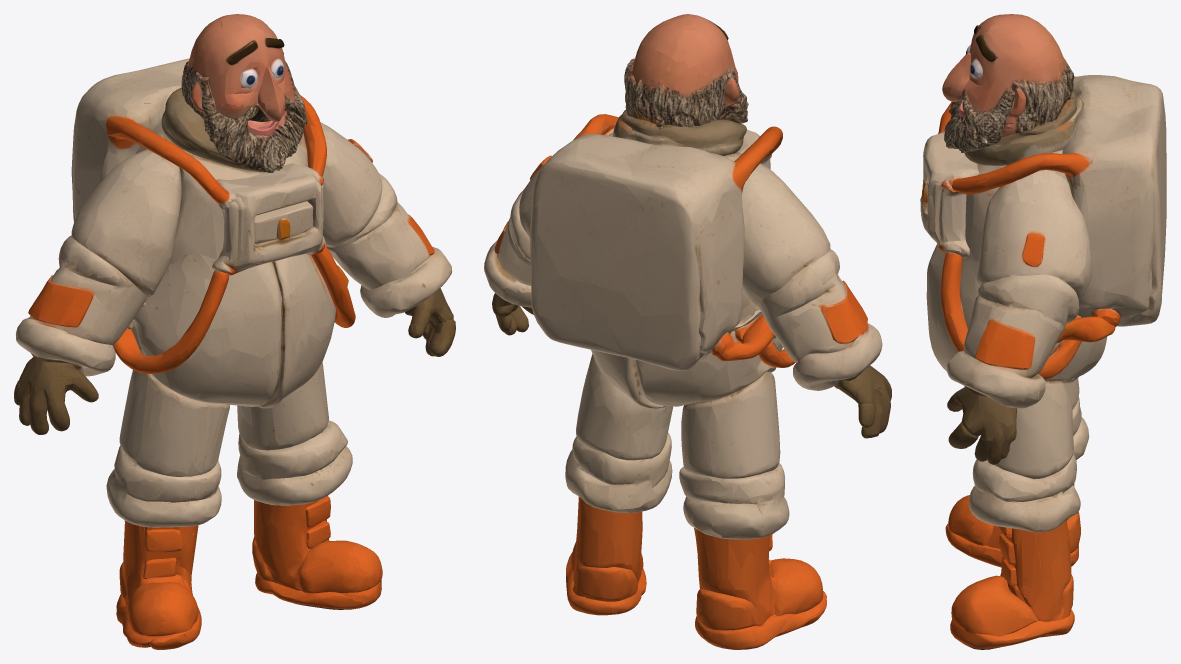
The model's file is A3-clay-suit_remesh30k.glb.
The picture shows the model from 3 angles, left to right: view 1: azimuth 30°, elevation 25°; view 2: azimuth 150°, elevation 25°; view 3: azimuth 270°, elevation 25°; orthographic projection. The views are drawn at different scales.
Parts seen in each view (by area): view 1: output_unwrapped; view 2: output_unwrapped; view 3: output_unwrapped.
Part boxes in pixels (bbox=[...]): output_unwrapped: bbox=[14, 14, 455, 649]; output_unwrapped: bbox=[484, 14, 891, 649]; output_unwrapped: bbox=[920, 14, 1166, 649].
Size of the model in its own units: 1.37 by 1.9 by 0.737.
Materials: 1 (1 with a texture image).
